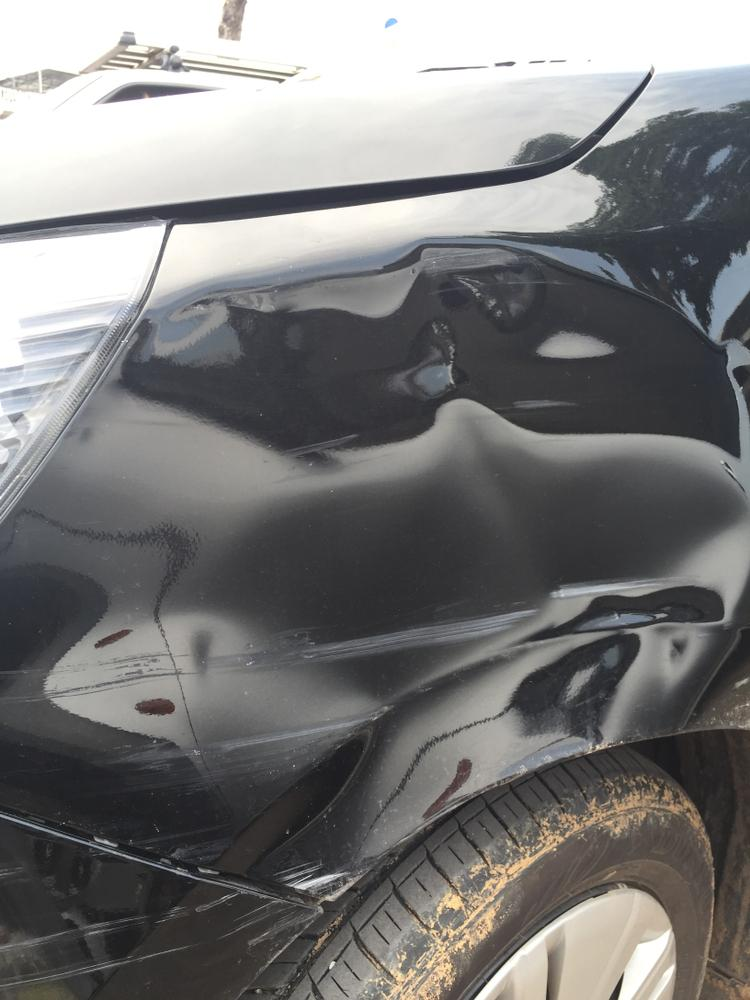dent: (113, 240, 750, 835)
scratch: (0, 887, 324, 1000), (260, 858, 374, 904), (102, 734, 195, 790)
